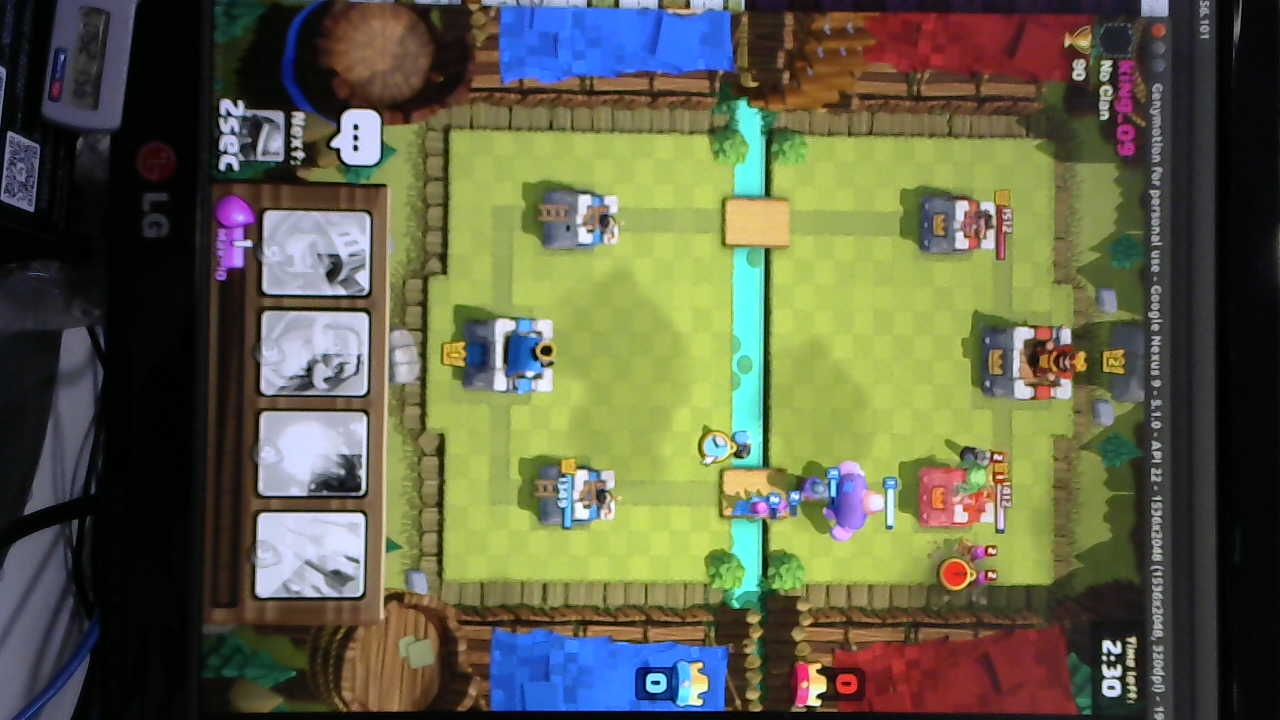archers: (725, 487, 803, 527), (960, 535, 1002, 600)
arena: (537, 464, 622, 529), (540, 186, 621, 253)
bomb: (955, 438, 1012, 473), (718, 424, 754, 464)
dragon: (945, 458, 1006, 504)
earena: (915, 461, 999, 529), (922, 193, 1000, 260)
eking: (974, 315, 1086, 403)
giant: (828, 458, 884, 544)
king: (460, 313, 559, 398)
musketeer: (789, 473, 842, 505)
